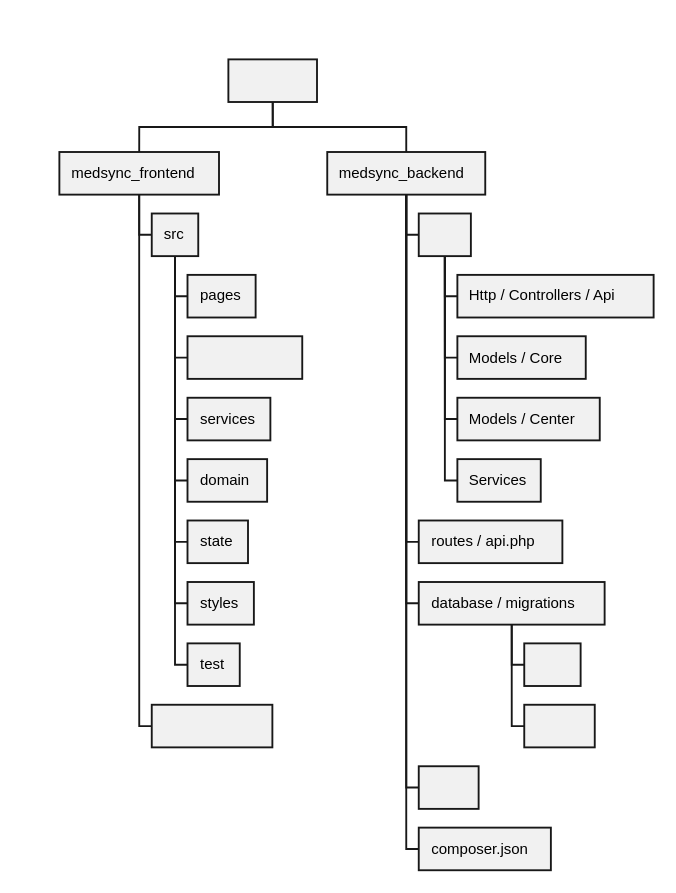
The diagram is 676 pixels wide and 893 high, and some of its shapes have lost their labels. The box of each missing label's shape, as (x1, y1, x2, y2) in pixels:
app: (417, 212, 471, 256)
center: (523, 703, 595, 748)
components: (186, 335, 303, 379)
core: (523, 642, 581, 686)
MedSync: (227, 58, 317, 102)
package.json: (150, 703, 273, 748)
tests: (417, 765, 479, 809)
